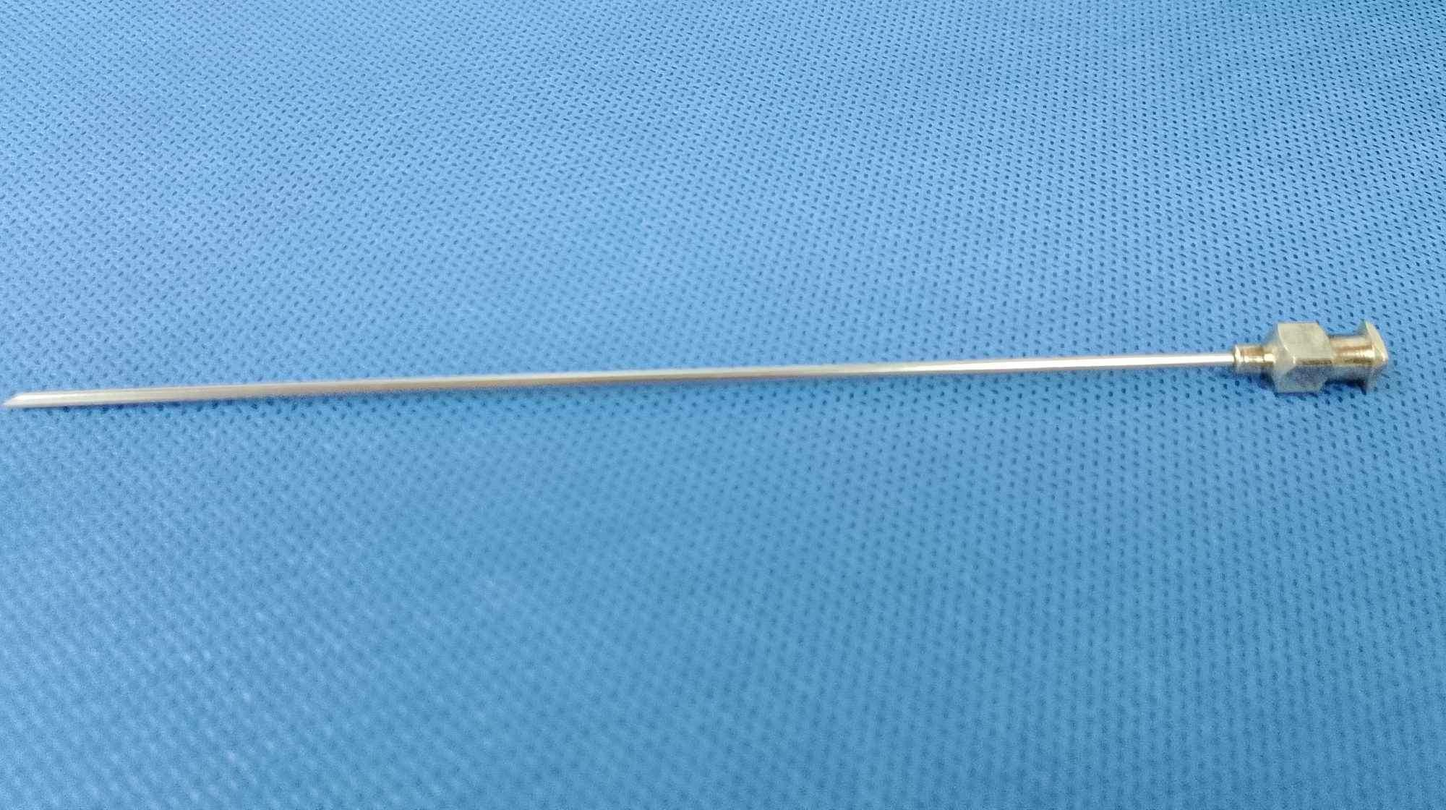General: (5, 4, 1439, 805)
Sharps: (3, 316, 1390, 412)
